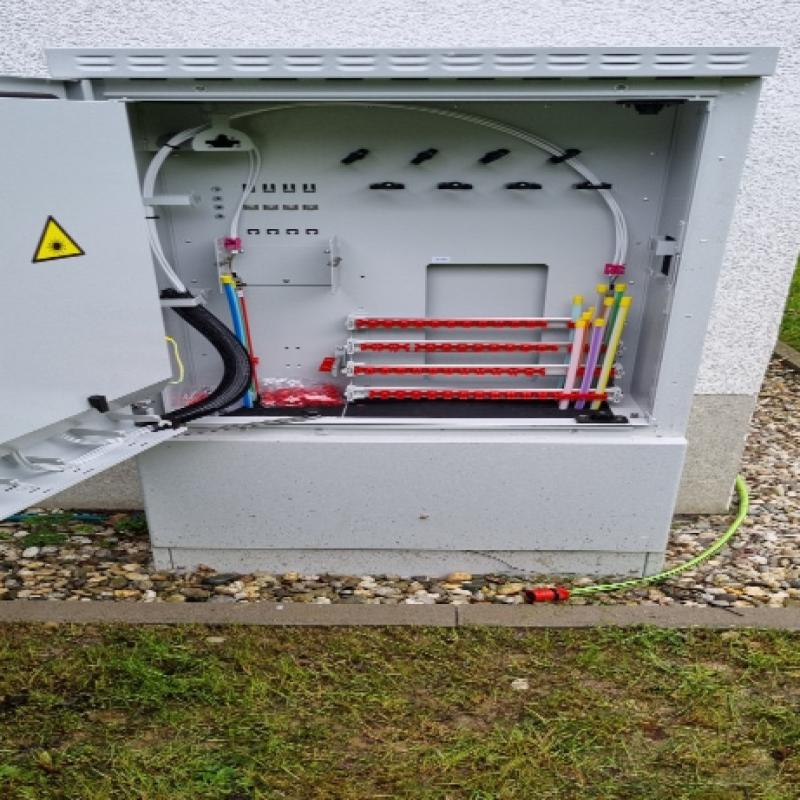NT-Gehause: (0, 49, 775, 576)
